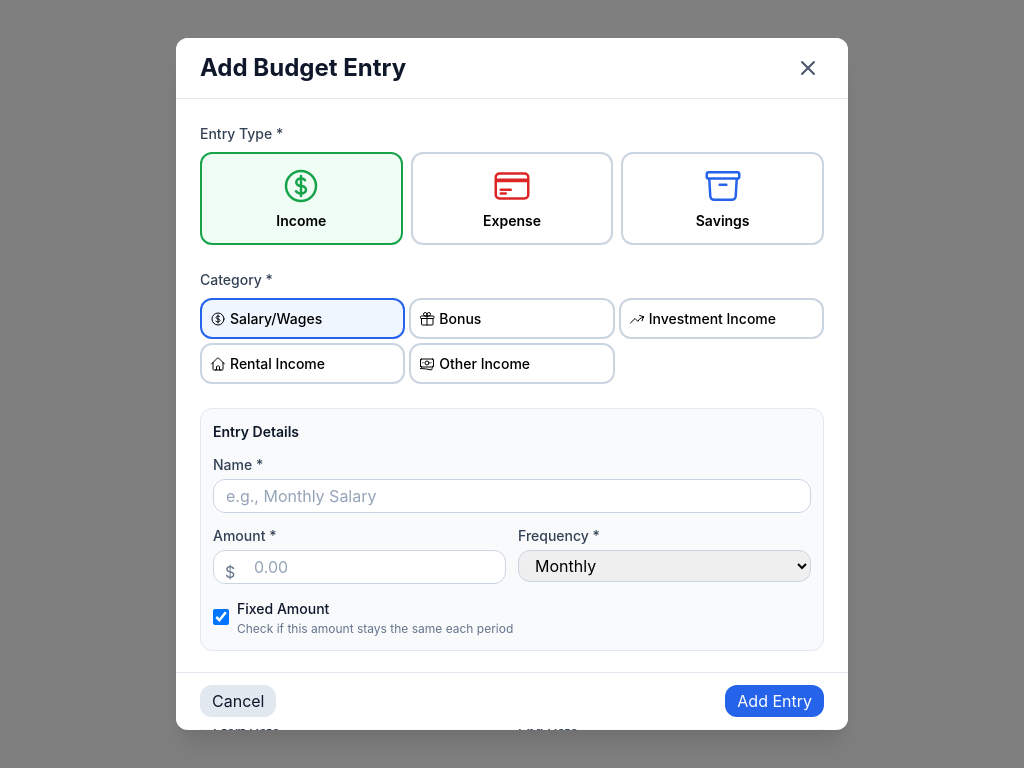
Test: BudgetForm › validates required fields before submitting
What coordinates should you click on to do the following:
click the button "Add Entry"
I would click on:
 (775, 702)
Its box is x1=725 y1=686 x2=824 y2=718.
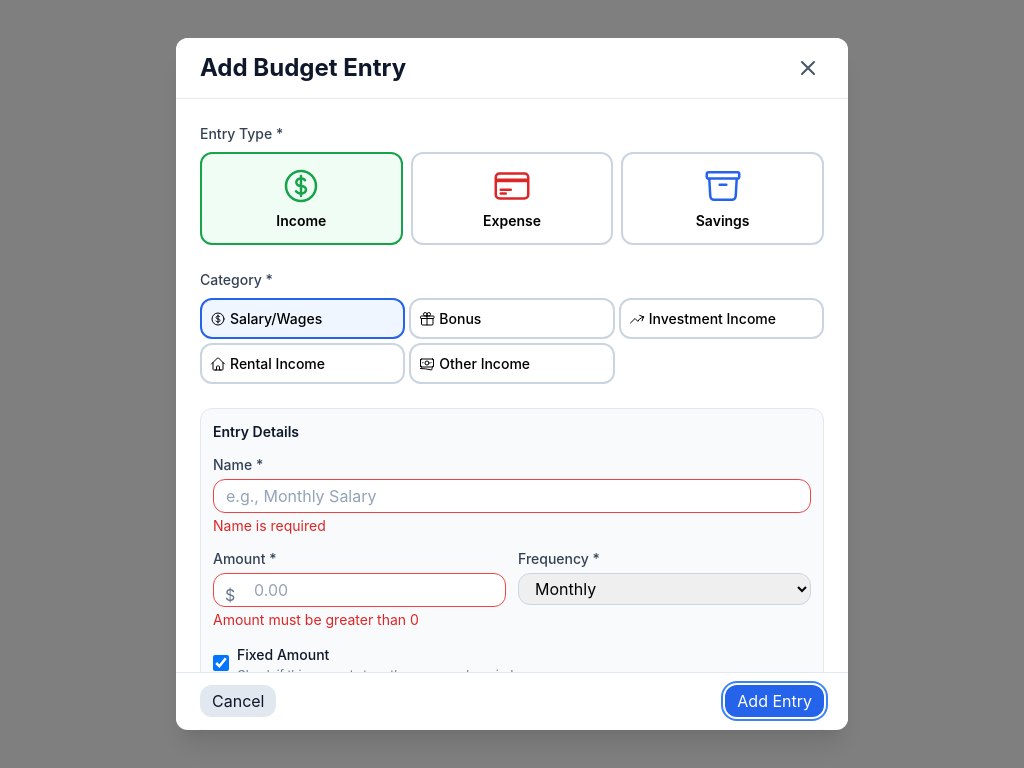
Expected: the text "Name is required" is shown, x1=213 y1=517 x2=326 y2=534
Expected: the text "Amount must be greater than 0" is shown, x1=213 y1=611 x2=419 y2=628
